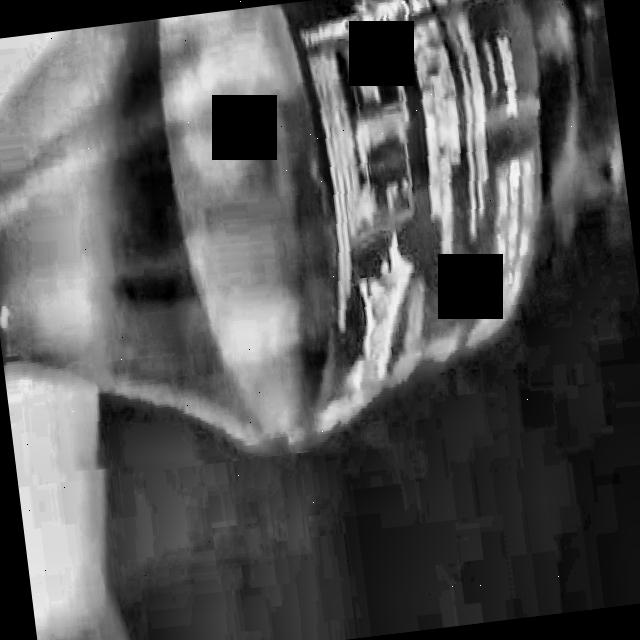bottle: (0, 0, 632, 452)
